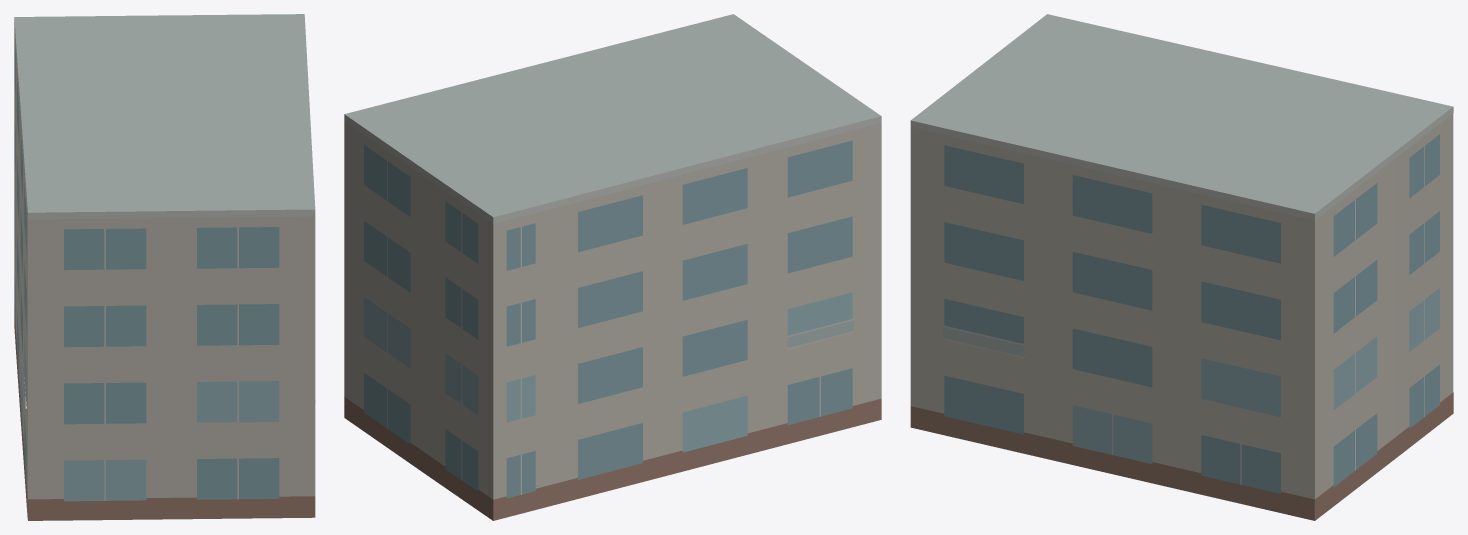
Rendered from survey-upis-32660336.glb.
The picture shows the model from 3 angles, left to right: view 1: azimuth 30°, elevation 25°; view 2: azimuth 150°, elevation 25°; view 3: azimuth 270°, elevation 25°; orthographic projection.
Parts seen in each view (by area): view 1: survey-upis-32660336.tmp; view 2: survey-upis-32660336.tmp; view 3: survey-upis-32660336.tmp.
Boxes of the visible parts, x1,y1,x2,y2 form: survey-upis-32660336.tmp: [14, 14, 315, 520]; survey-upis-32660336.tmp: [344, 14, 881, 520]; survey-upis-32660336.tmp: [910, 14, 1453, 520].
Size of the model in its own units: 15.36 by 11 by 17.63.
